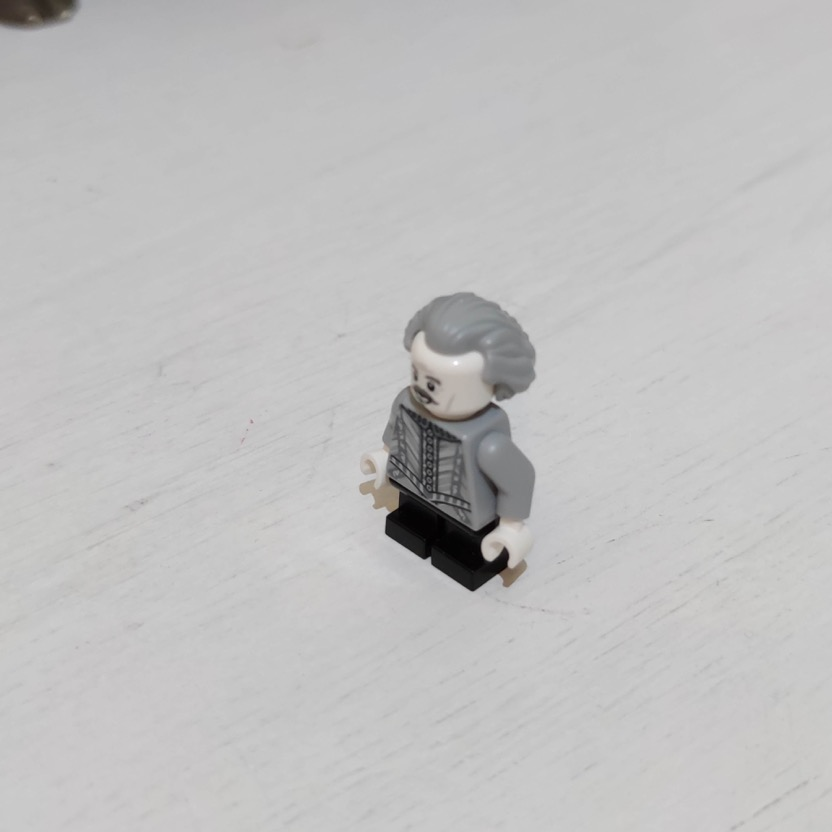lego: (360, 291, 540, 594)
